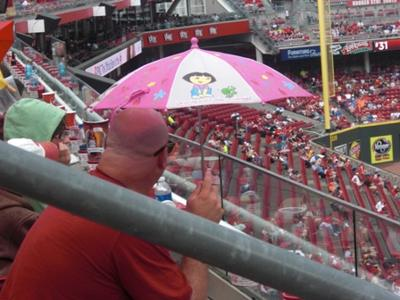person: (2, 108, 225, 300)
